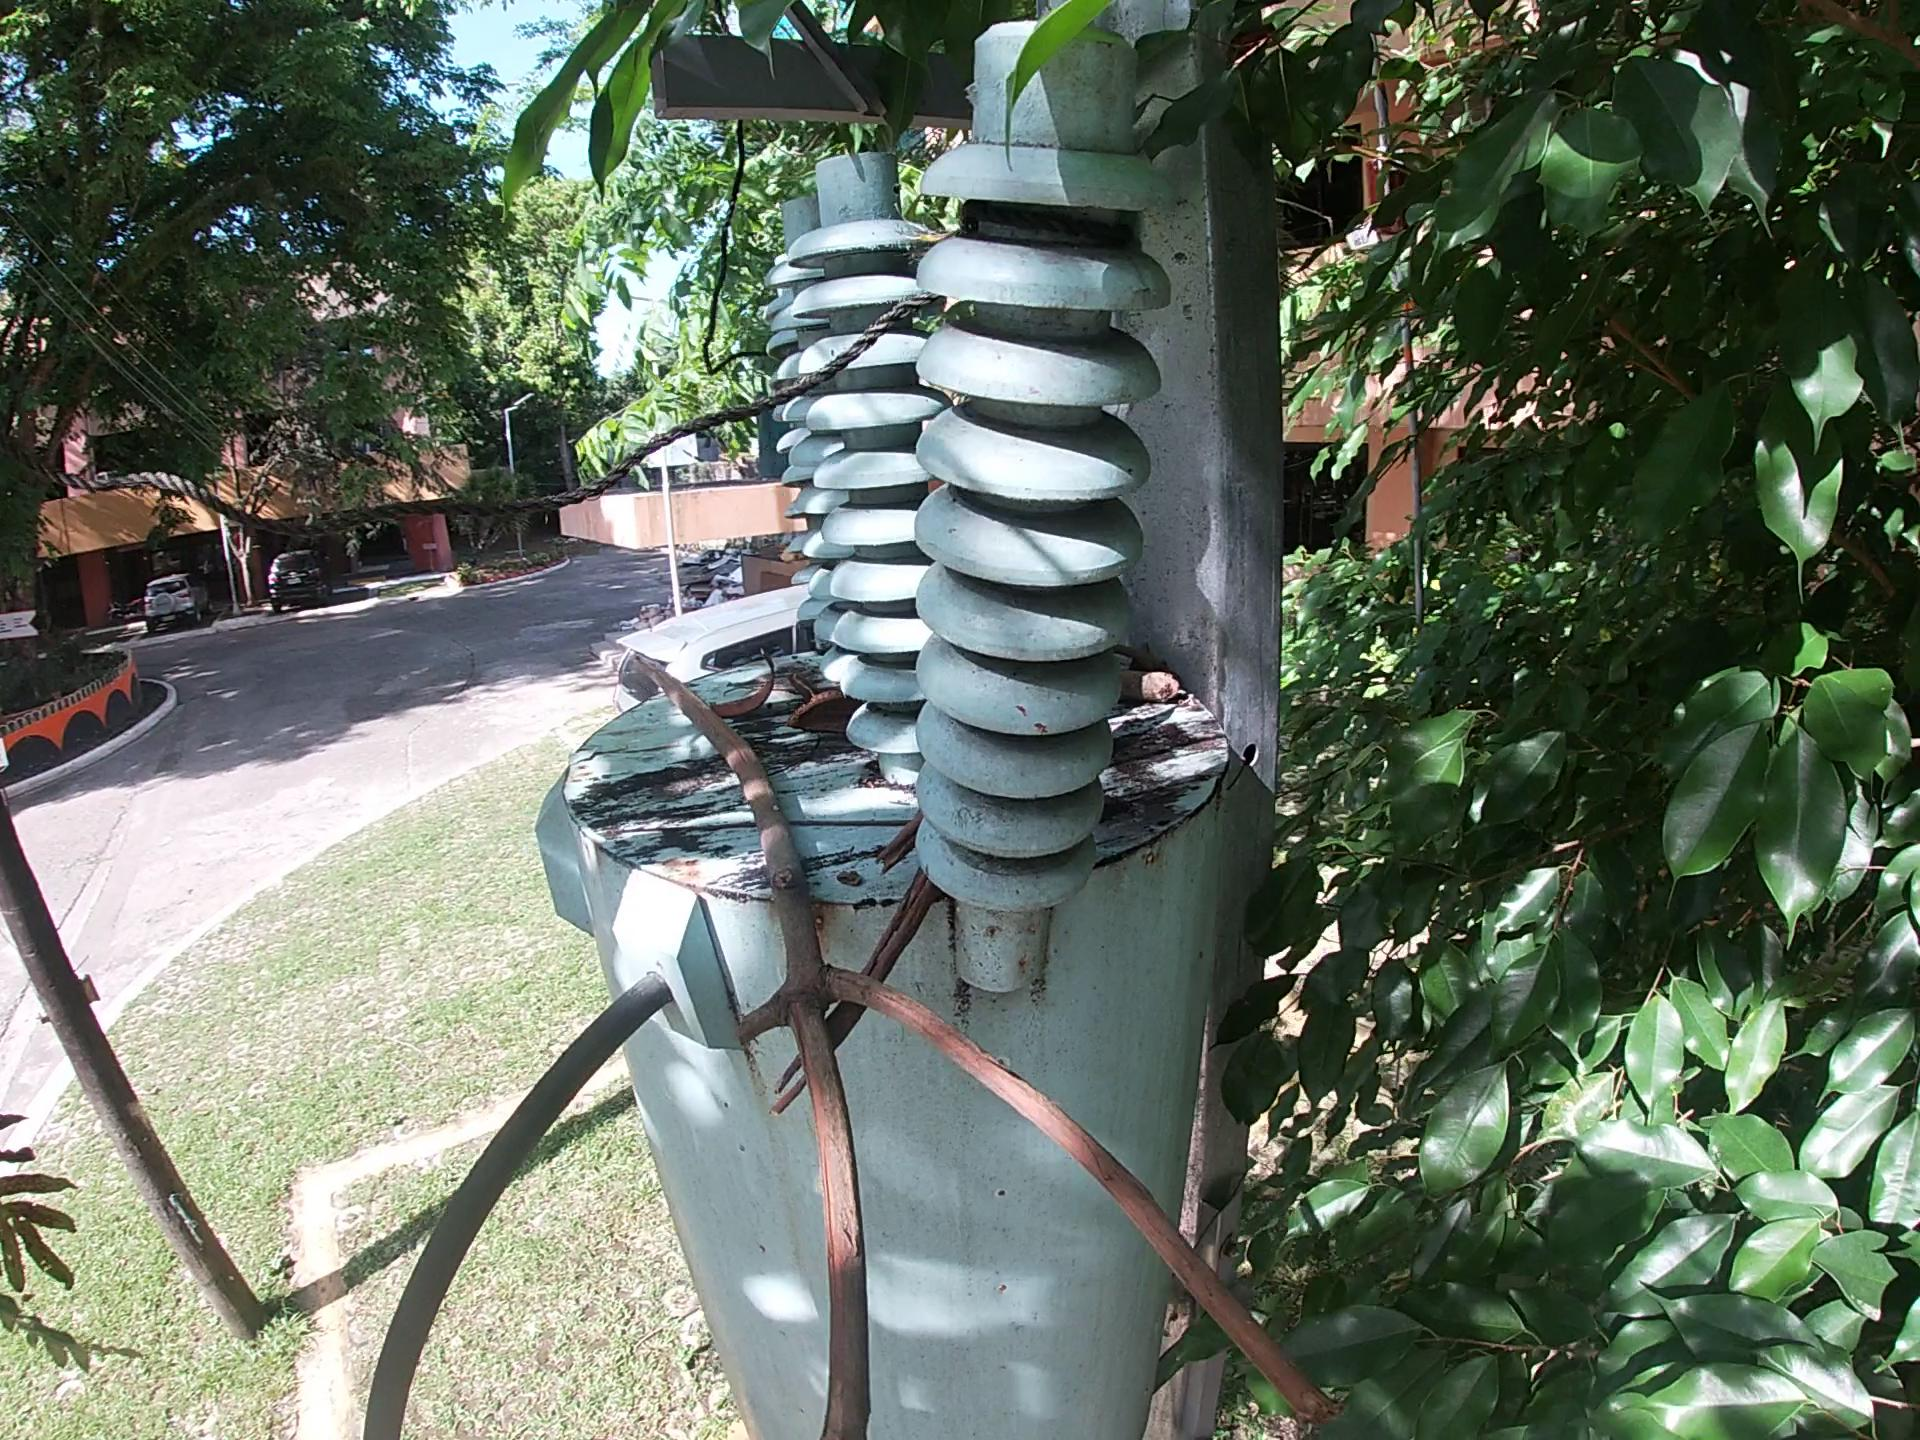mahogany fruit: (718, 634, 794, 715), (797, 696, 863, 740)
tree branch: (612, 646, 1353, 1432), (760, 876, 936, 1119), (714, 809, 903, 833), (859, 812, 921, 876), (1119, 661, 1200, 703), (785, 673, 819, 706)
